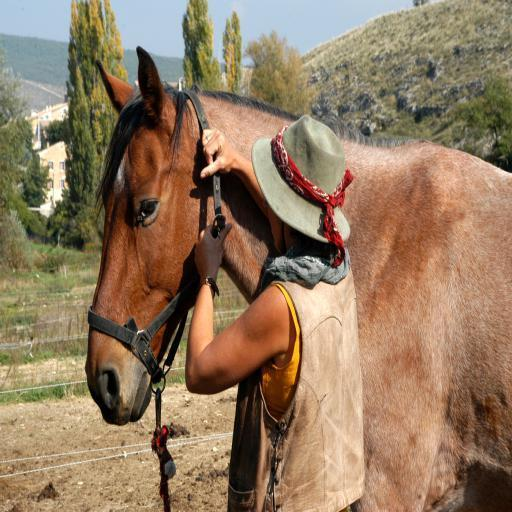horse: (81, 42, 512, 512)
